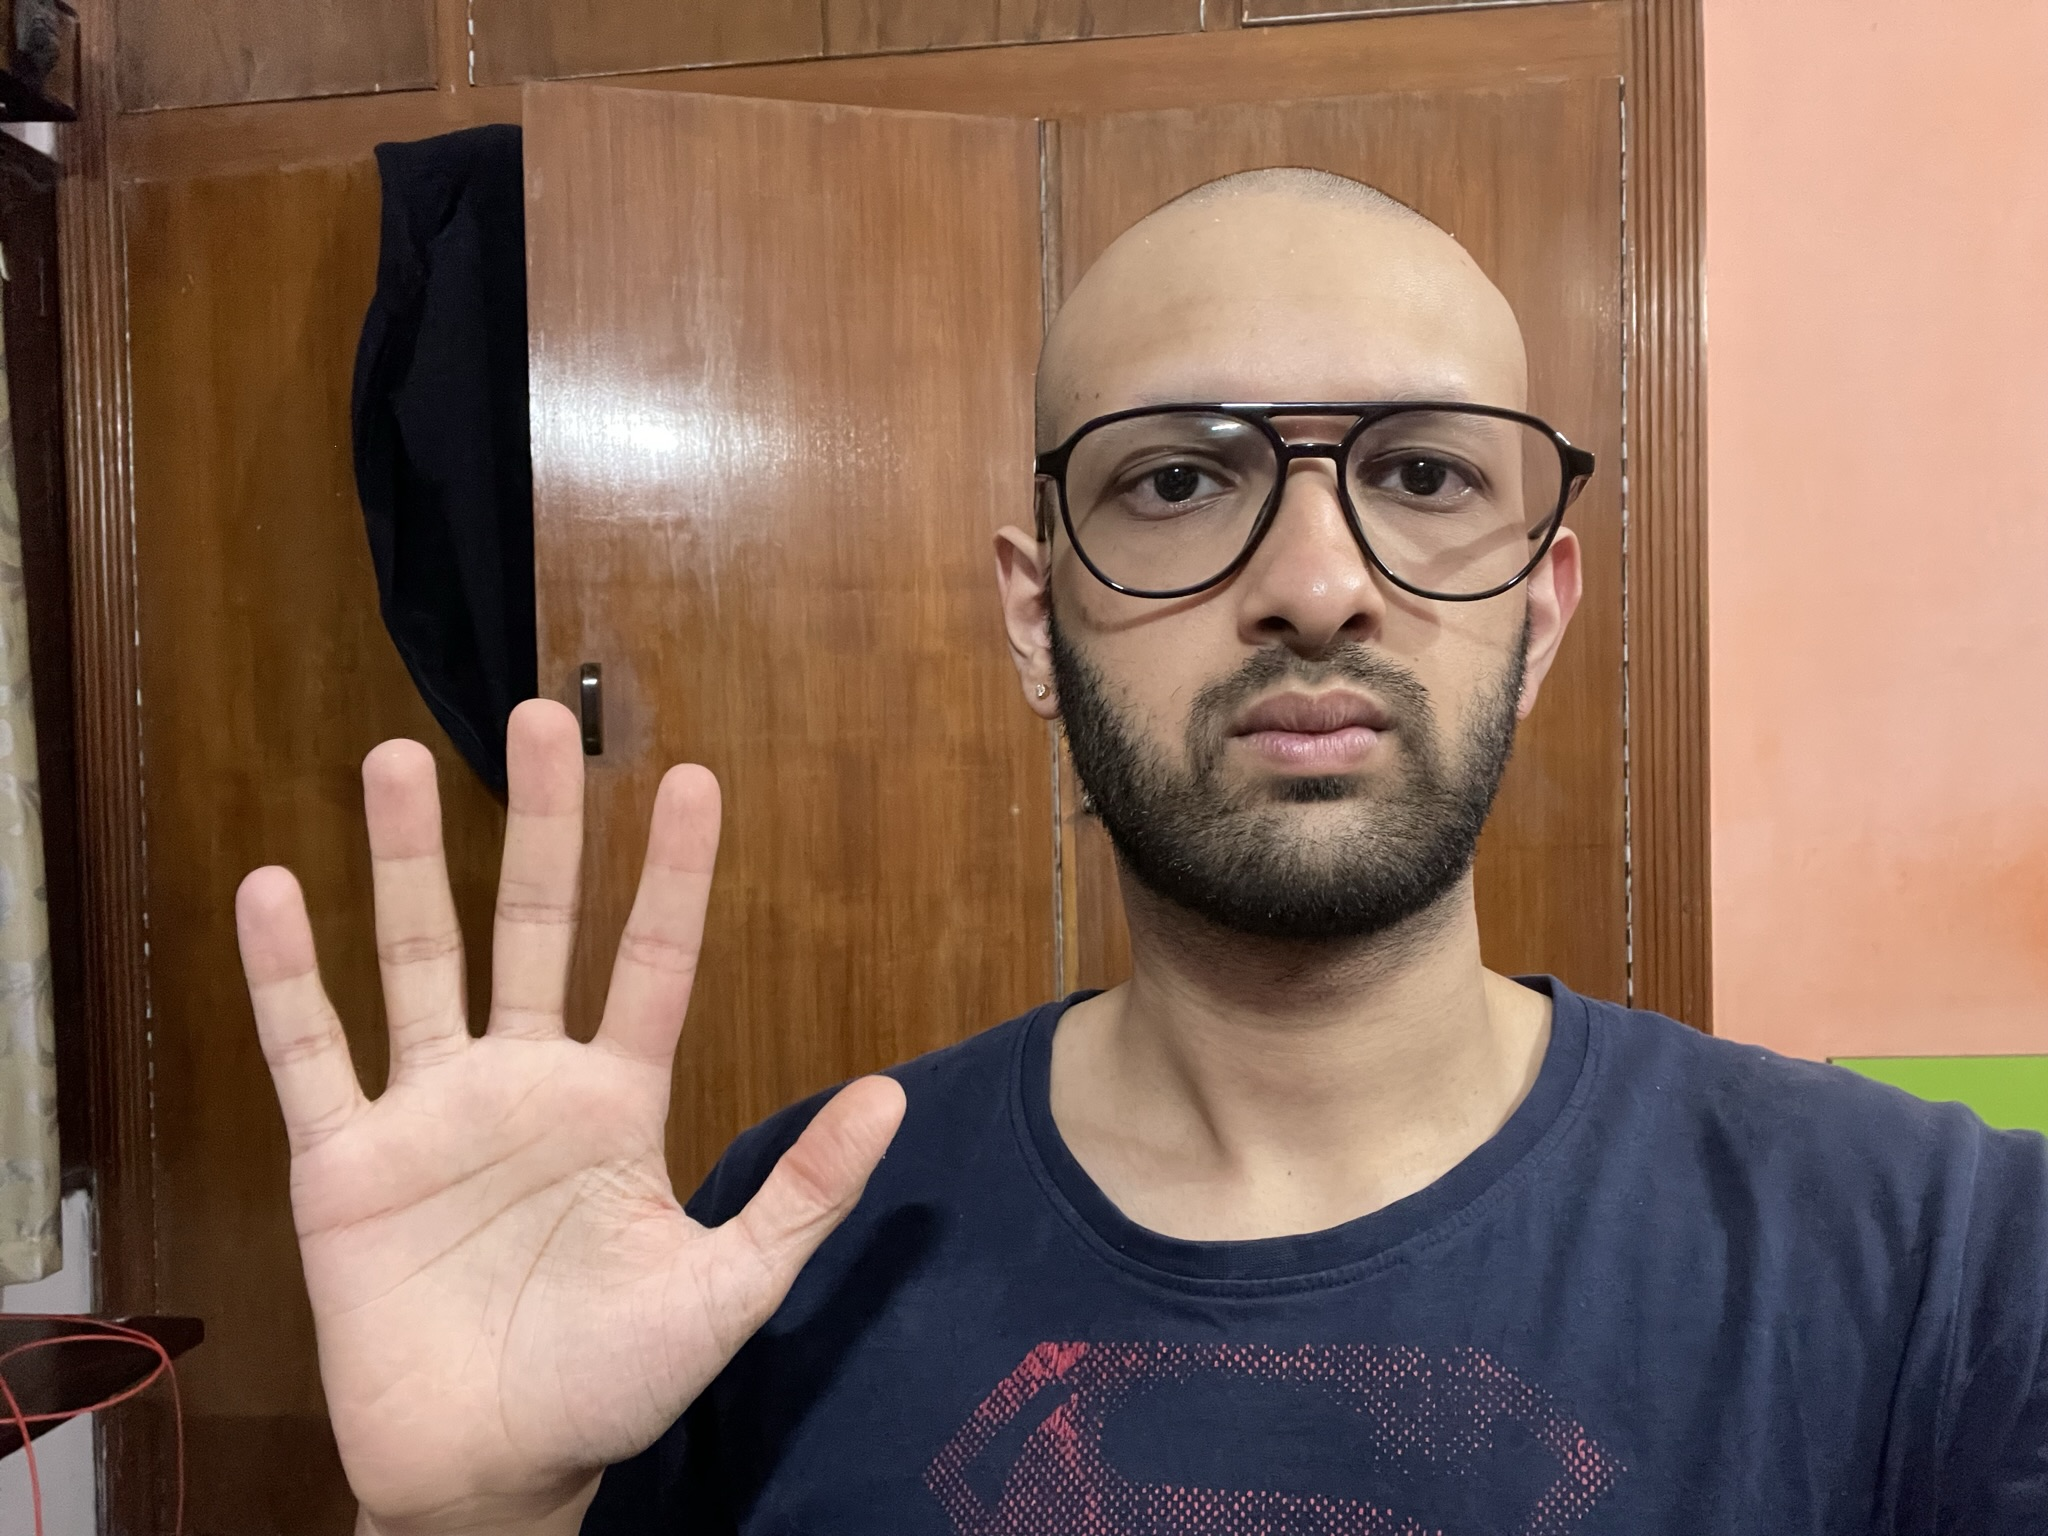Hello: (227, 679, 914, 1528)
